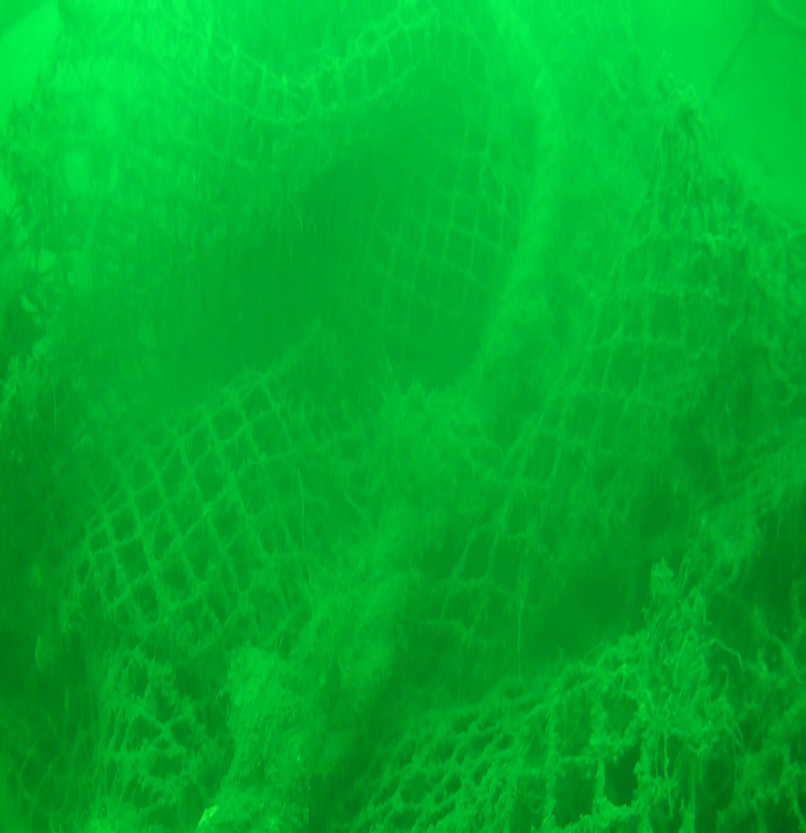fishing net: (1, 1, 806, 833)
